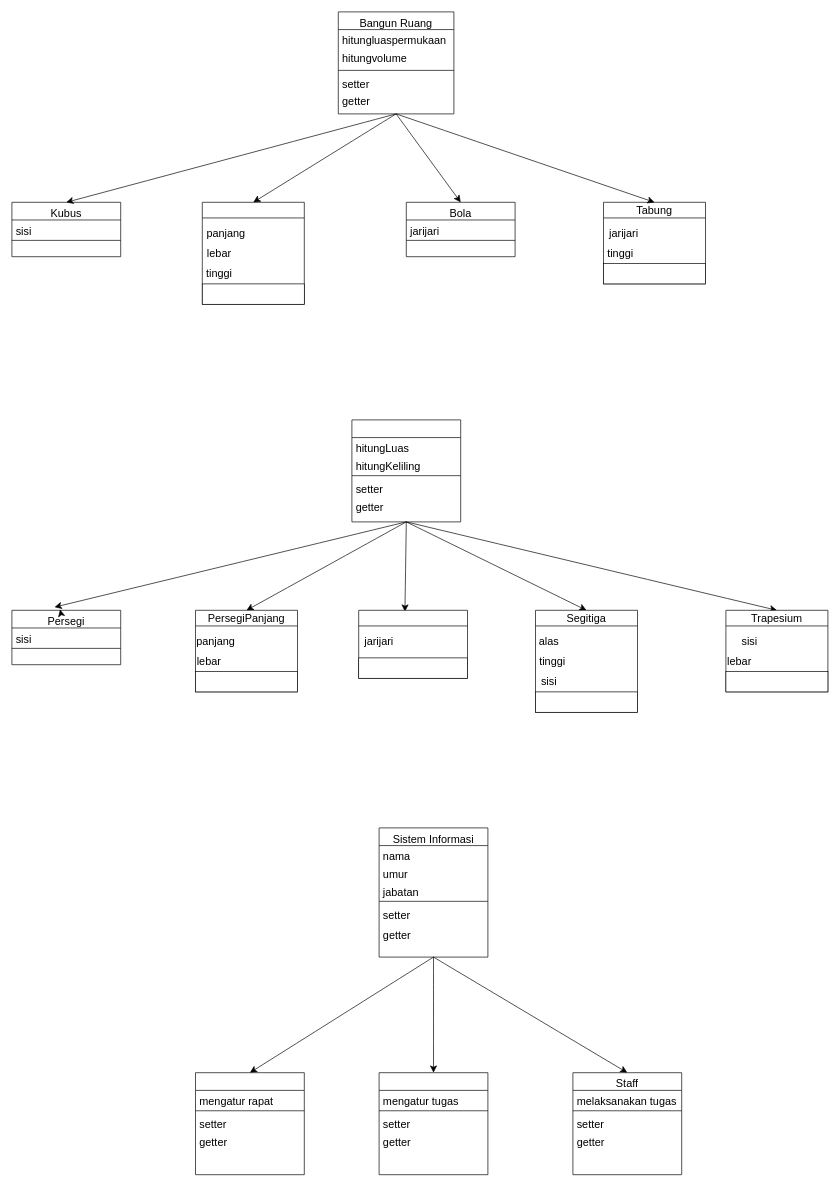
The diagram is 840 pixels wide and 1187 high, and some of its shapes have lost their labels. Here are the shapes that lost their labels. From the top down, the box of each, then its label:
(202, 202, 304, 304): Balok
(351, 419, 461, 522): Bangun Datar
(358, 610, 468, 678): Lingkaran
(195, 1072, 304, 1175): Pengurus Inti
(378, 1072, 488, 1175): Koordinator Bidang
